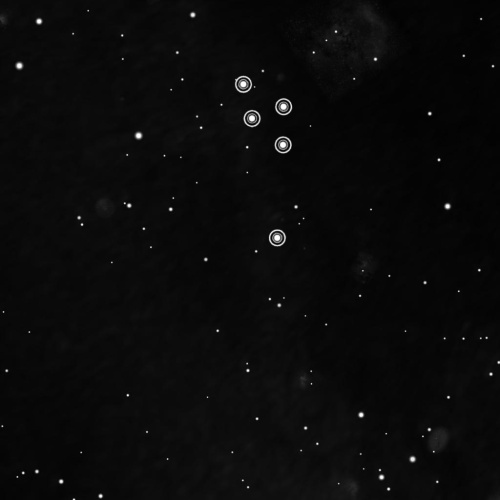delphinus: (227, 69, 297, 256)
